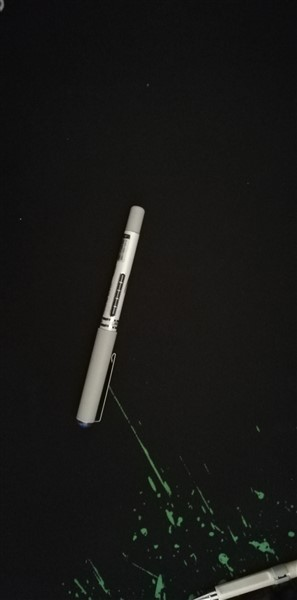pilot kalem: (70, 196, 149, 435)
